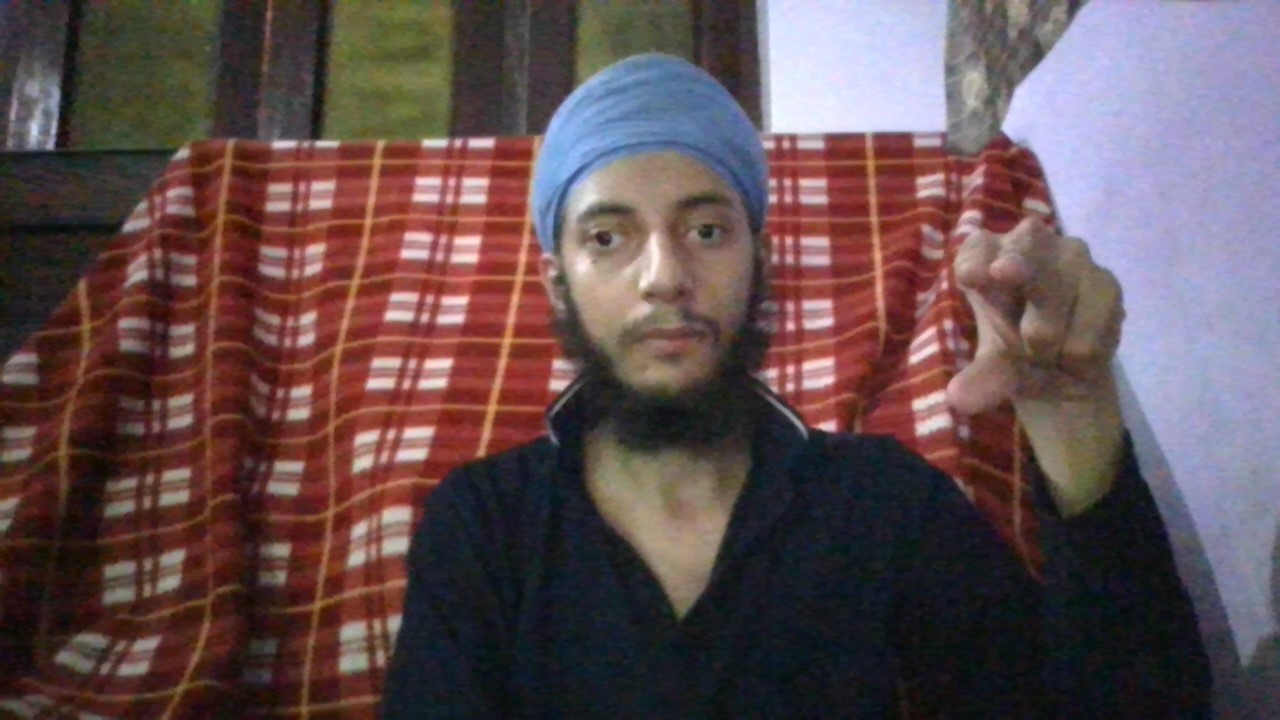No: (942, 216, 1126, 417)
